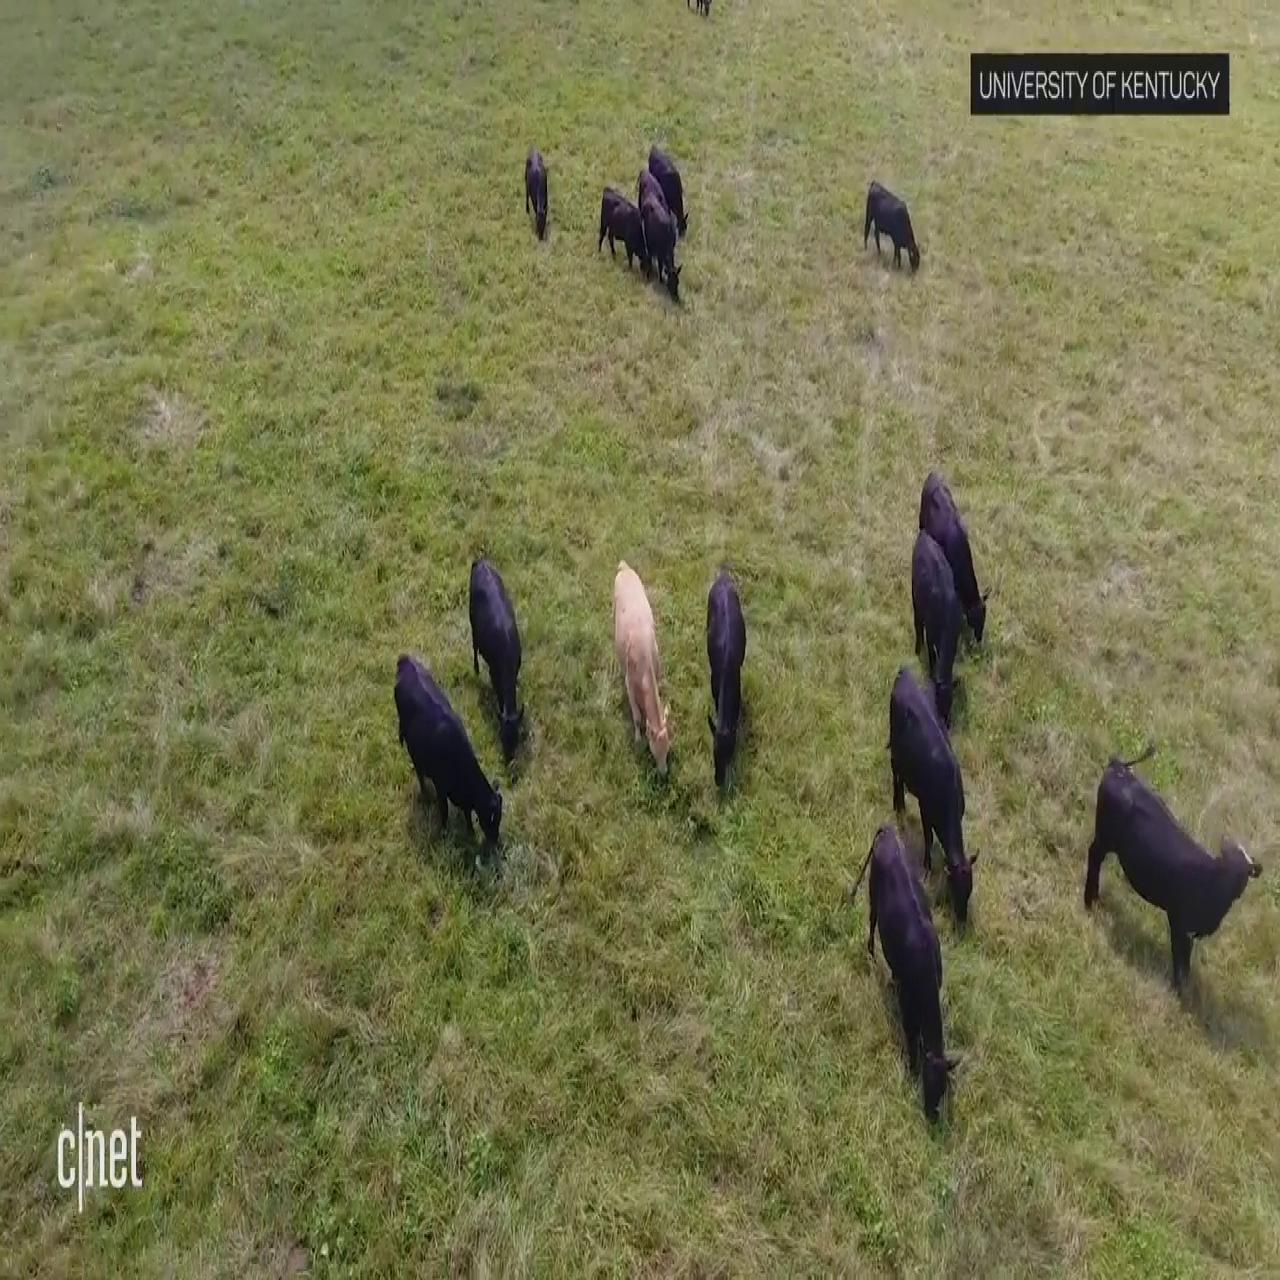cow: (1082, 756, 1254, 998), (850, 816, 976, 1139), (387, 640, 503, 858), (880, 668, 969, 942), (910, 457, 999, 644), (900, 530, 971, 730), (606, 553, 668, 779), (702, 565, 754, 805), (467, 561, 526, 749), (640, 141, 692, 285), (863, 181, 922, 278), (597, 186, 647, 268), (523, 150, 553, 247)
